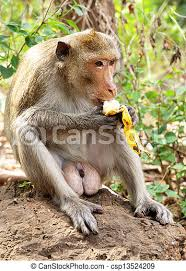monkey: (0, 8, 165, 263)
